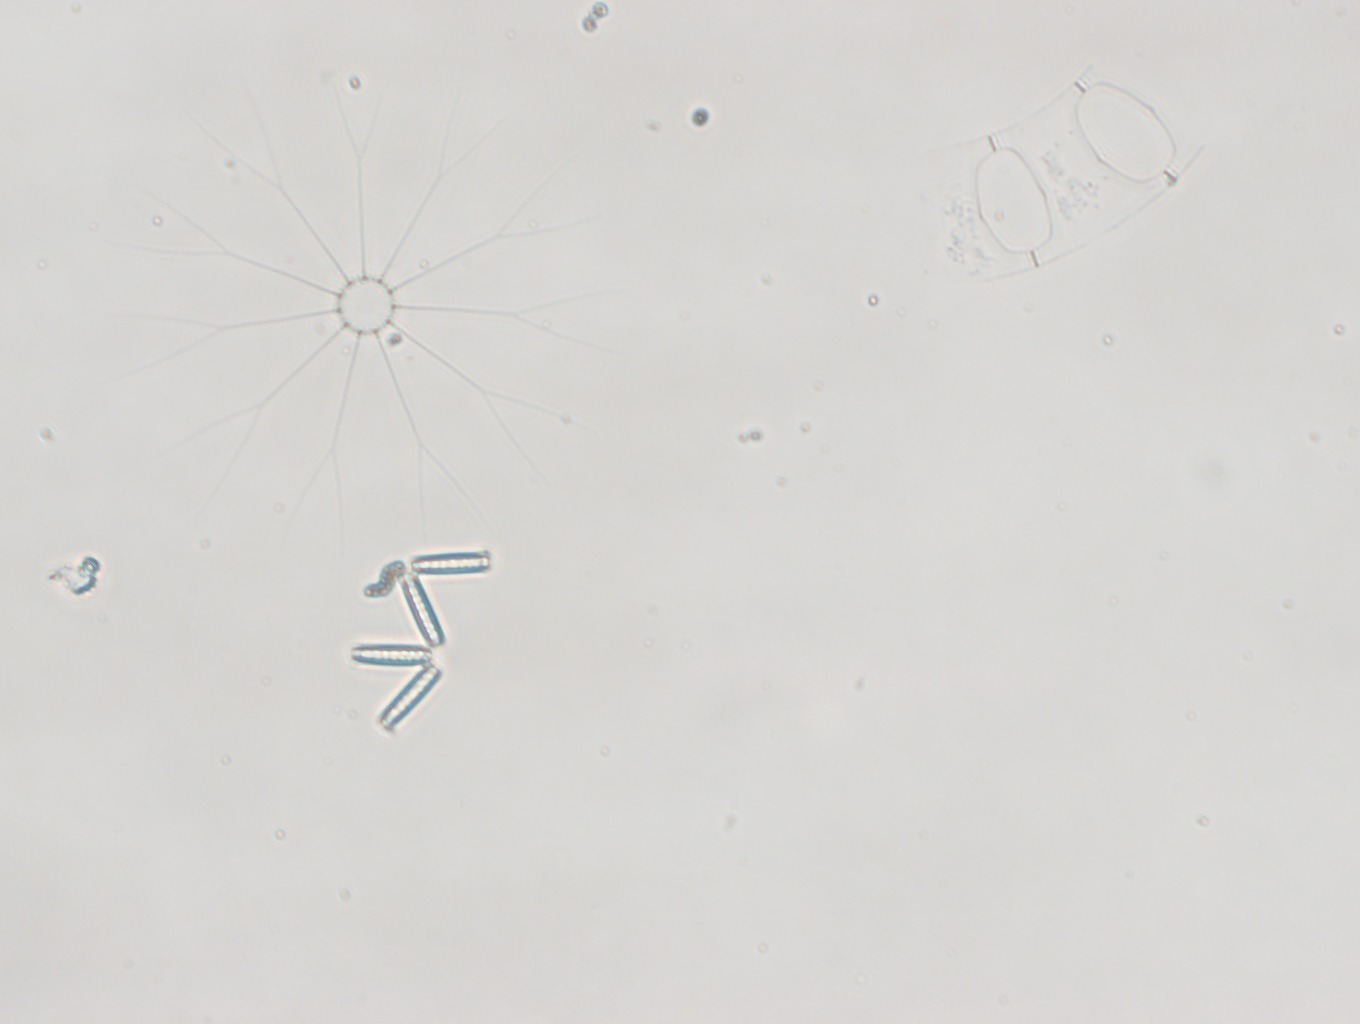bacteriastrum: (139, 81, 617, 534)
eucampia: (924, 69, 1232, 293)
thalassionema nitzschioides: (343, 545, 500, 733)
